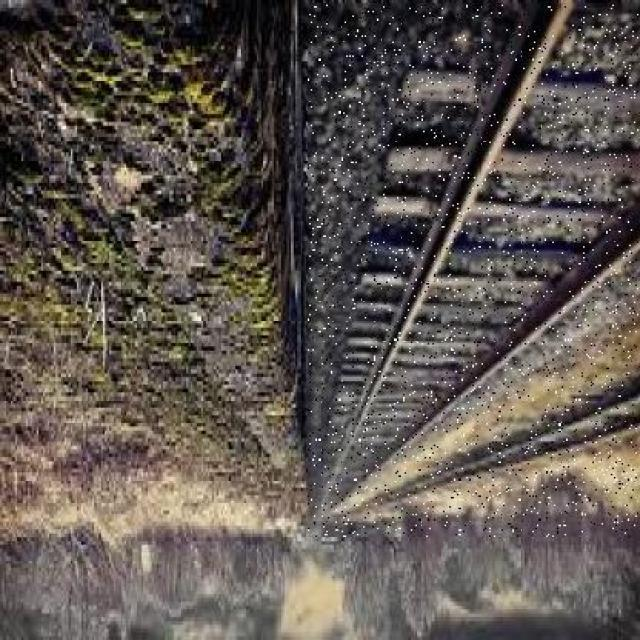rail: (309, 6, 639, 537)
